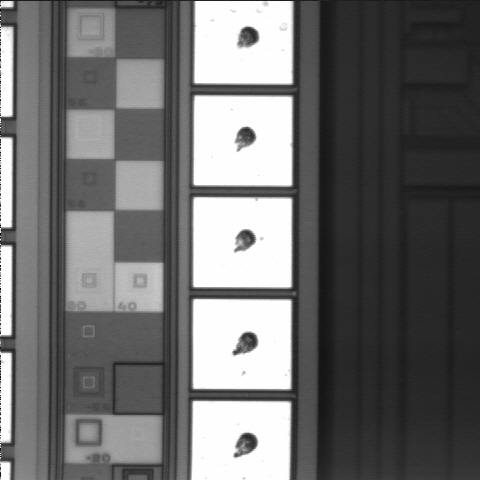pad: (193, 197, 292, 287), (194, 96, 292, 186), (193, 299, 291, 389)
